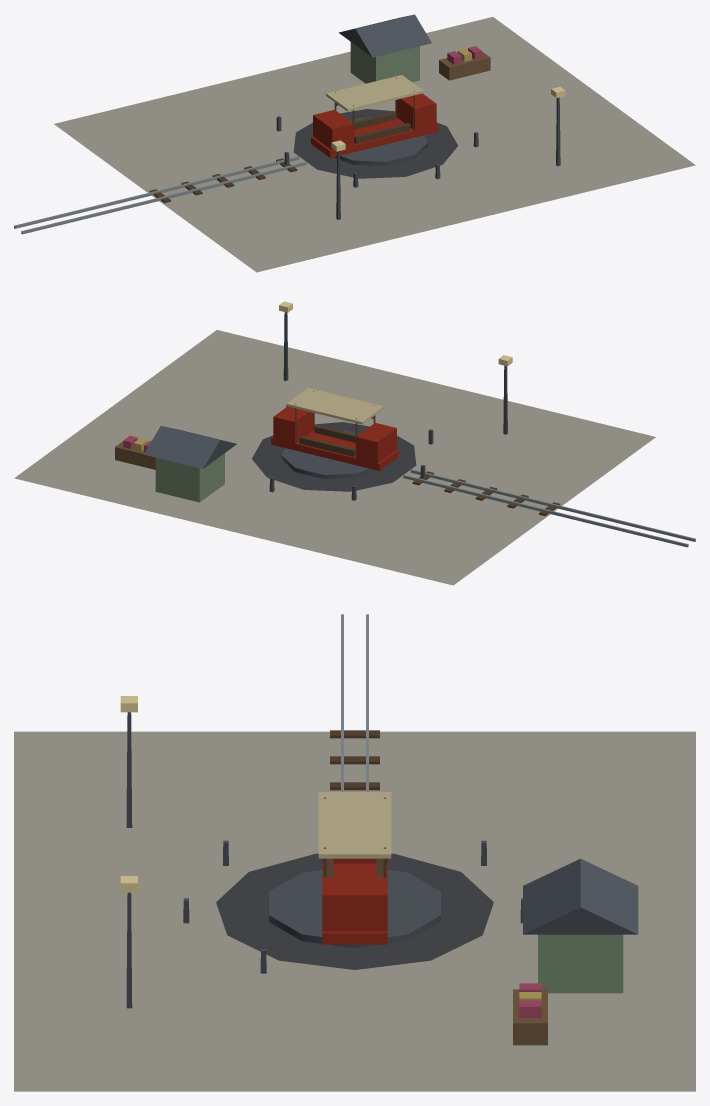
File: mobile.glb
3 views of the same model, one above another, from view 1: azimuth 30°, elevation 25°; view 2: azimuth 150°, elevation 25°; view 3: azimuth 270°, elevation 25° (orthographic). The views are drawn at different scales.
Parts seen in each view (by area): view 1: lm.powell-turntable; view 2: lm.powell-turntable; view 3: lm.powell-turntable.
Boxes of the visible parts, box(x1,y1,x2,y2) form: lm.powell-turntable: box(14, 14, 695, 272); lm.powell-turntable: box(14, 301, 695, 585); lm.powell-turntable: box(14, 614, 695, 1091).
Size of the model in its own units: 44.6 by 5.64 by 27.2.
